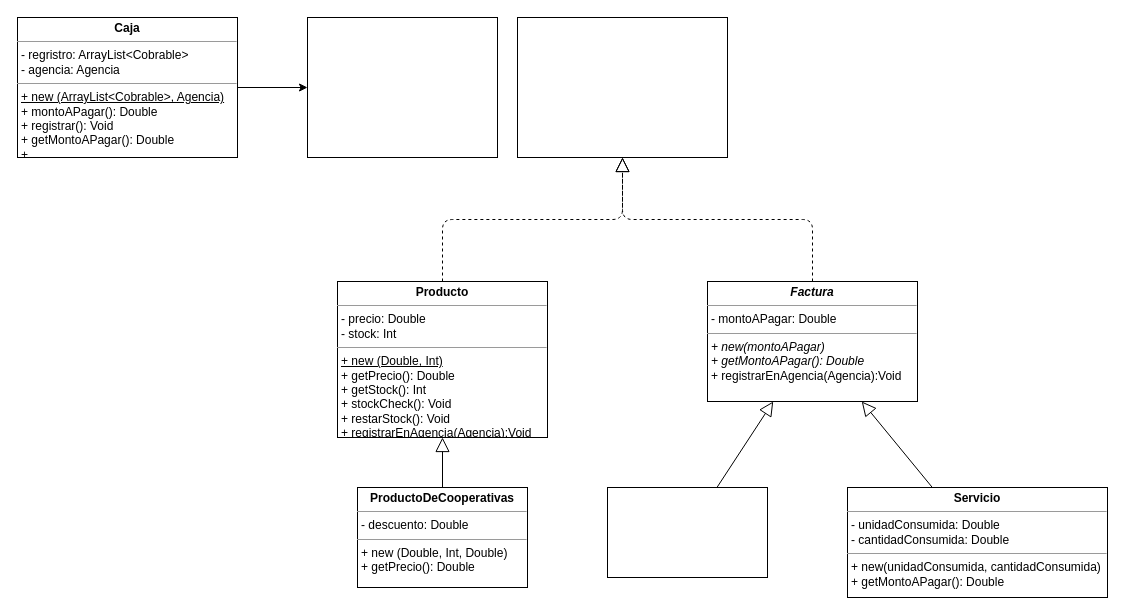
This 1125x615 diagram has some shape labels left out. The shapes that lost their labels are listed below. From the top down, each one's centre as x and y in pixels, then its label:
pixel 402 87: <<Interface>> Agencia + registrarPago(Factura): Void
pixel 622 87: <<Interface>> Cobrable + getPrecio(): Double + registrarEnAgencia(Agencia):Void
pixel 687 532: Impuesto - tasa: Double + getMontoAPagar():Double
